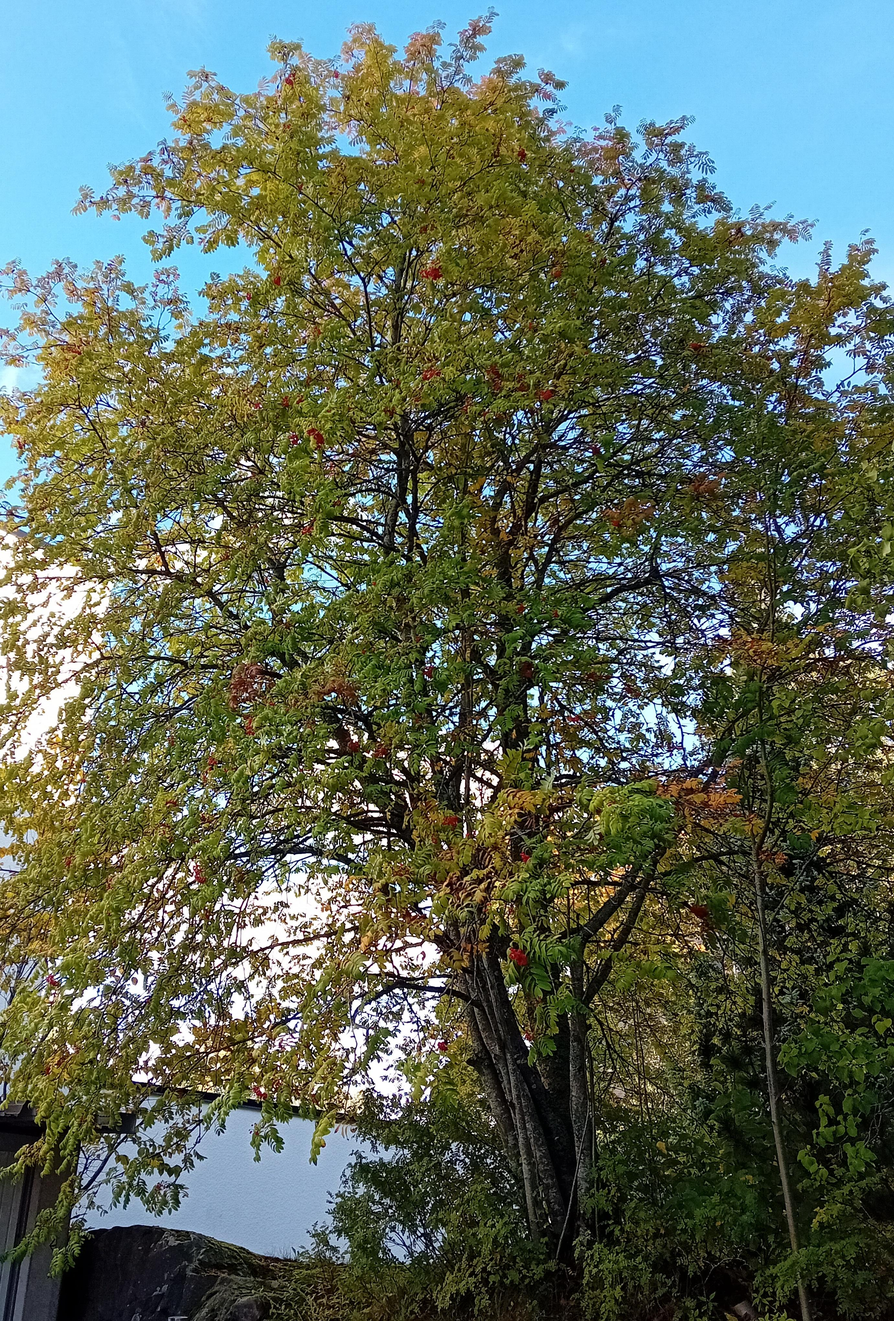Rowan: (2, 6, 892, 1299)
